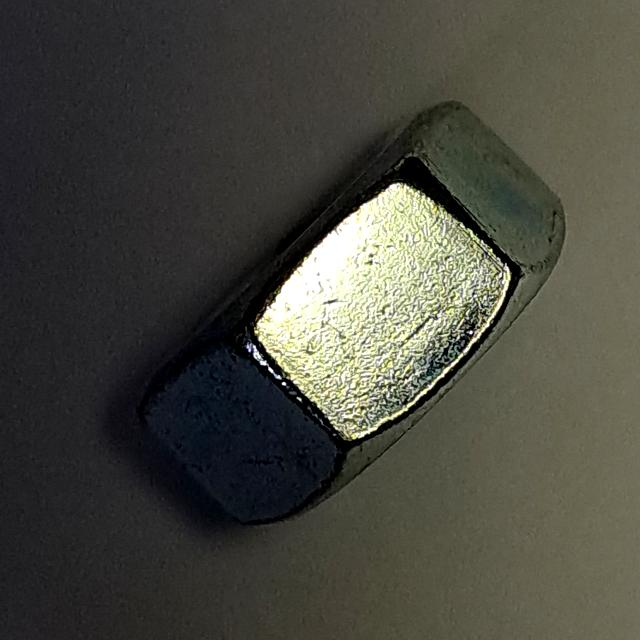Side_Excellent: (117, 87, 580, 544)
